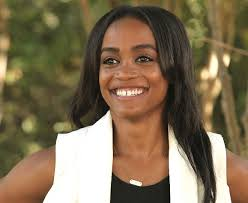no-mask: (98, 11, 172, 119)
